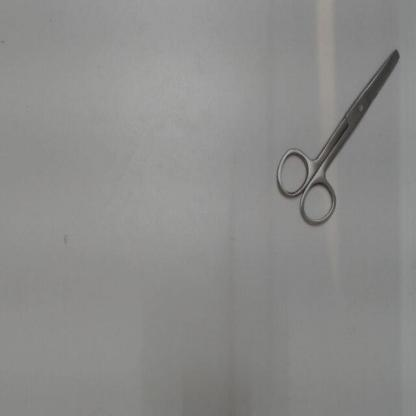Dressing Scissors: (266, 38, 410, 238)
